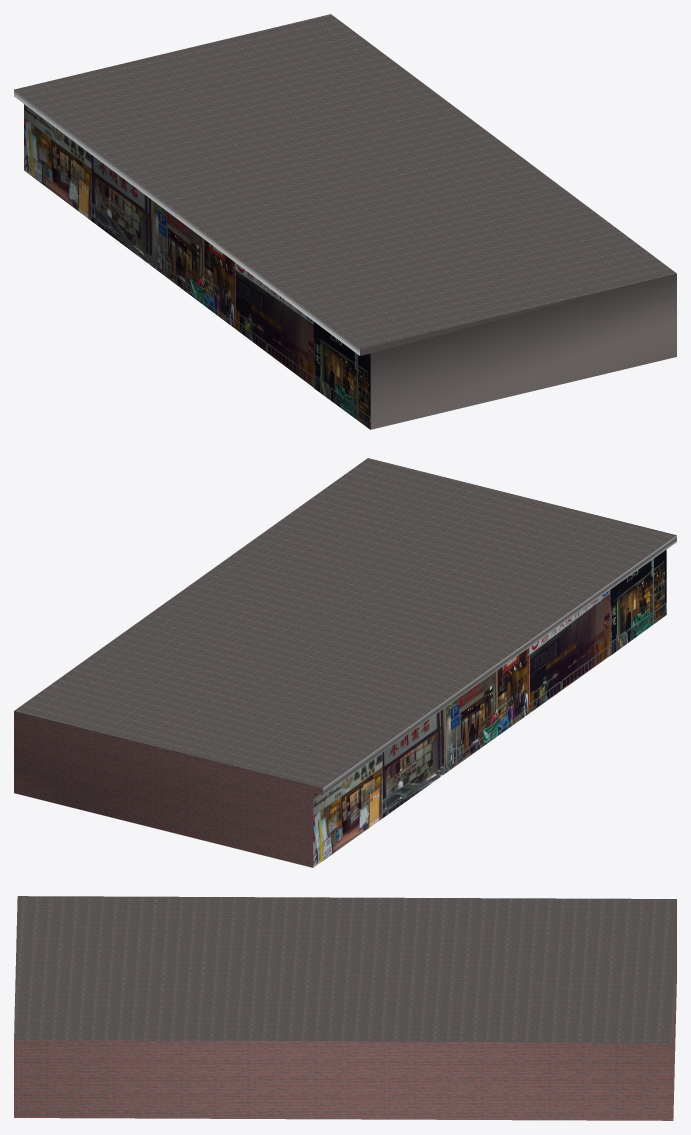
Rendered from shops.dae.
3 views of the same model, one above another, from view 1: azimuth 30°, elevation 25°; view 2: azimuth 150°, elevation 25°; view 3: azimuth 270°, elevation 25° (orthographic). The views are drawn at different scales.
Parts seen in each view (by area): view 1: _GAF_Country_Mansion_, FrontColor, op_left1, book_front, right, baku, books, _Siding2_, op_left; view 2: _GAF_Country_Mansion_, _Brick_dark_grout_, op_left1, book_front, books, baku, right, _Siding2_, op_left; view 3: _GAF_Country_Mansion_, _Brick_dark_grout_.
Boxes of the visible parts, left/top/right/bottom form: _GAF_Country_Mansion_: left=14, top=14, right=676, bottom=348; FrontColor: left=360, top=273, right=676, bottom=429; op_left1: left=235, top=262, right=313, bottom=387; book_front: left=24, top=104, right=91, bottom=220; right: left=313, top=321, right=370, bottom=429; baku: left=148, top=197, right=204, bottom=305; books: left=91, top=155, right=147, bottom=262; _Siding2_: left=14, top=90, right=359, bottom=355; op_left: left=204, top=240, right=234, bottom=328; _GAF_Country_Mansion_: left=14, top=458, right=676, bottom=787; _Brick_dark_grout_: left=14, top=590, right=610, bottom=867; op_left1: left=529, top=590, right=609, bottom=713; book_front: left=313, top=752, right=382, bottom=867; books: left=382, top=711, right=440, bottom=817; baku: left=440, top=670, right=497, bottom=776; right: left=610, top=550, right=666, bottom=655; _Siding2_: left=323, top=535, right=676, bottom=794; op_left: left=498, top=648, right=528, bottom=735; _GAF_Country_Mansion_: left=14, top=896, right=676, bottom=1042; _Brick_dark_grout_: left=14, top=906, right=676, bottom=1120.
Bounding box in the file's own units: 582 × 1110 × 144.
9 materials, 9 textured.
